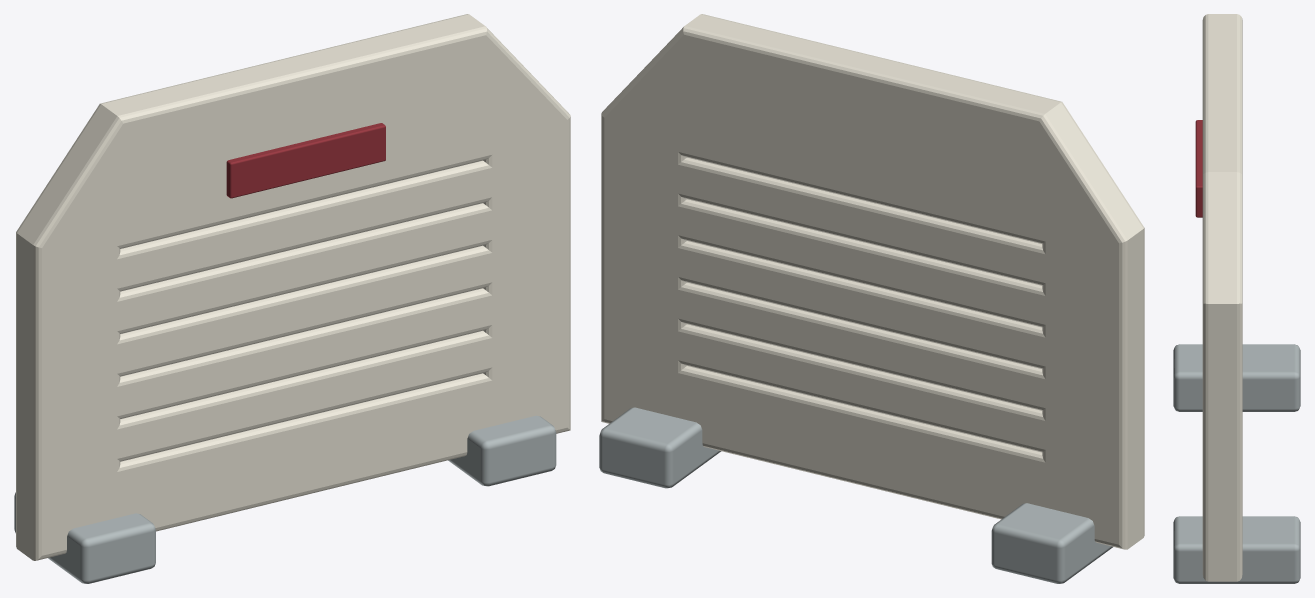
File: pneumatic-tube-mail-exchange-pneumatic-tube-mail-excha-bbc893b2__32296.glb
3 renders of one model, left to right at view 1: azimuth 30°, elevation 25°; view 2: azimuth 150°, elevation 25°; view 3: azimuth 270°, elevation 25°, orthographic. The views are drawn at different scales.
Visible parts, largest first — view 1: pneumatic-tube-mail-exchange-blower-belt-guard; view 2: pneumatic-tube-mail-exchange-blower-belt-guard; view 3: pneumatic-tube-mail-exchange-blower-belt-guard.
Boxes of the visible parts, bbox=[...] form: pneumatic-tube-mail-exchange-blower-belt-guard: bbox=[14, 14, 570, 583]; pneumatic-tube-mail-exchange-blower-belt-guard: bbox=[599, 14, 1144, 583]; pneumatic-tube-mail-exchange-blower-belt-guard: bbox=[1173, 14, 1300, 583].
Bounding box in the file's own units: 0.858 × 0.679 × 0.2.
